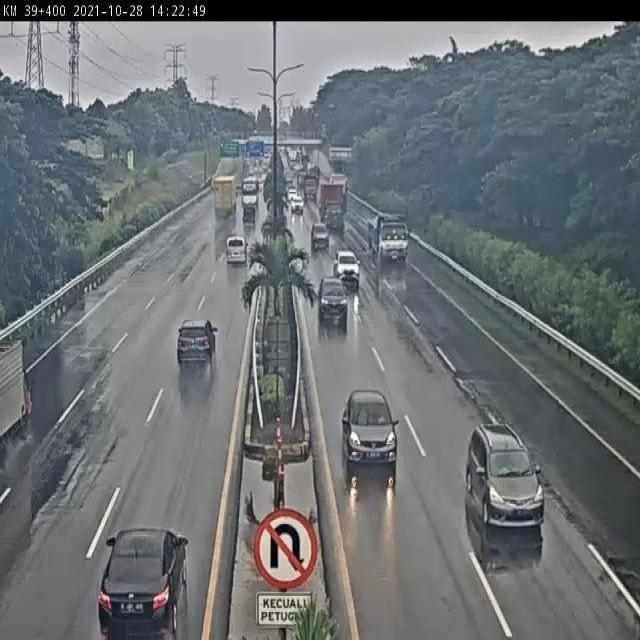truck-l-: (365, 212, 414, 268)
truck-s-: (0, 336, 37, 449)
truck-xl-: (318, 179, 347, 233)
